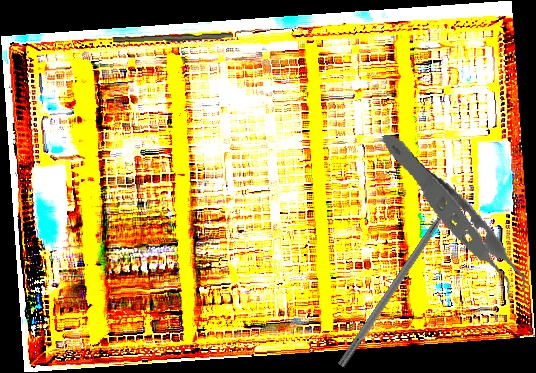Hook Surgical: (337, 190, 463, 370)
Scalpel Handle: (112, 30, 234, 47)
Tissue Forceps: (379, 115, 532, 331)
